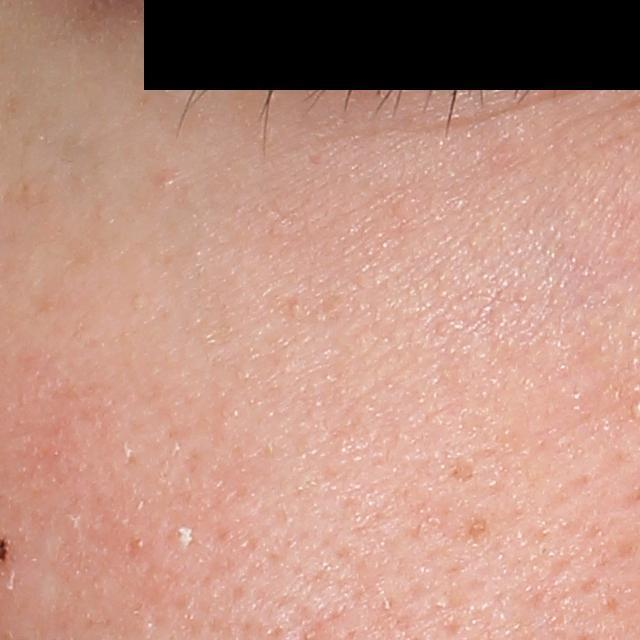comedo: (167, 519, 193, 547), (159, 173, 177, 187)
